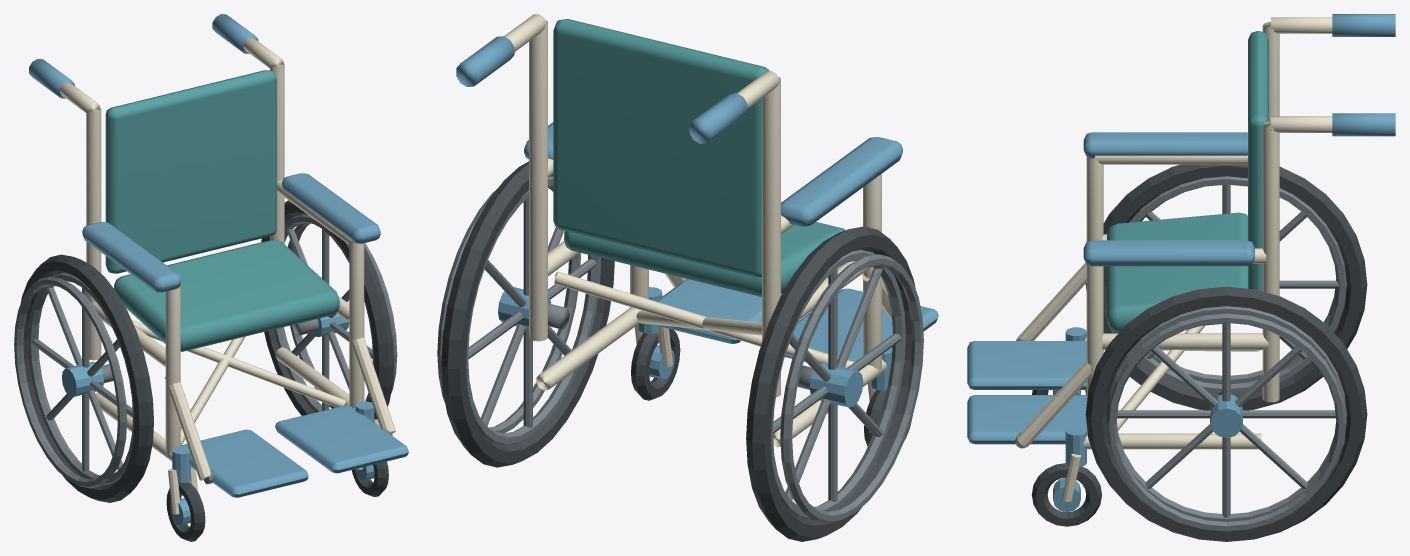
Rendered from transport_T2_wheelchair.glb.
3 renders of one model, left to right at view 1: azimuth 30°, elevation 25°; view 2: azimuth 150°, elevation 25°; view 3: azimuth 270°, elevation 25°, orthographic. The views are drawn at different scales.
Visible parts, largest first — view 1: MESH_Static_Frame, MESH_Rear_Wheel_Roll_R, MESH_Rear_Wheel_Roll_L, MESH_Footplate_Fold_L, MESH_Footplate_Fold_R, MESH_Caster_Wheel_Roll_R, MESH_Footrest_Swing_R, MESH_Footrest_Swing_L, MESH_Caster_Swivel_R, MESH_Caster_Wheel_Roll_L; view 2: MESH_Static_Frame, MESH_Rear_Wheel_Roll_R, MESH_Rear_Wheel_Roll_L, MESH_Footplate_Fold_L, MESH_Footplate_Fold_R, MESH_Caster_Wheel_Roll_L, MESH_Caster_Swivel_L; view 3: MESH_Static_Frame, MESH_Rear_Wheel_Roll_L, MESH_Rear_Wheel_Roll_R, MESH_Footplate_Fold_R, MESH_Footplate_Fold_L, MESH_Caster_Wheel_Roll_L, MESH_Footrest_Swing_L, MESH_Footrest_Swing_R, MESH_Caster_Swivel_L.
Boxes of the visible parts, box(x1,y1,x2,y2) form: MESH_Static_Frame: box(29, 14, 380, 461); MESH_Rear_Wheel_Roll_R: box(14, 254, 153, 502); MESH_Rear_Wheel_Roll_L: box(261, 200, 397, 419); MESH_Footplate_Fold_L: box(275, 405, 408, 473); MESH_Footplate_Fold_R: box(180, 429, 308, 497); MESH_Caster_Wheel_Roll_R: box(166, 482, 205, 541); MESH_Footrest_Swing_R: box(165, 377, 214, 484); MESH_Footrest_Swing_L: box(348, 332, 395, 435); MESH_Caster_Swivel_R: box(168, 446, 197, 514); MESH_Caster_Wheel_Roll_L: box(351, 461, 388, 496); MESH_Static_Frame: box(456, 14, 902, 447); MESH_Rear_Wheel_Roll_R: box(746, 226, 923, 541); MESH_Rear_Wheel_Roll_L: box(437, 161, 614, 467); MESH_Footplate_Fold_L: box(651, 279, 782, 343); MESH_Footplate_Fold_R: box(785, 288, 938, 361); MESH_Caster_Wheel_Roll_L: box(631, 329, 680, 400); MESH_Caster_Swivel_L: box(634, 287, 672, 367); MESH_Static_Frame: box(1083, 14, 1395, 449); MESH_Rear_Wheel_Roll_L: box(1085, 286, 1367, 541); MESH_Rear_Wheel_Roll_R: box(1085, 164, 1367, 410); MESH_Footplate_Fold_R: box(967, 341, 1086, 389); MESH_Footplate_Fold_L: box(967, 395, 1086, 444); MESH_Caster_Wheel_Roll_L: box(1031, 463, 1101, 526); MESH_Footrest_Swing_L: box(1015, 359, 1099, 448); MESH_Footrest_Swing_R: box(1016, 263, 1086, 340); MESH_Caster_Swivel_L: box(1062, 426, 1086, 501).
Size of the model in its own units: 0.7551 by 0.97 by 0.912.
